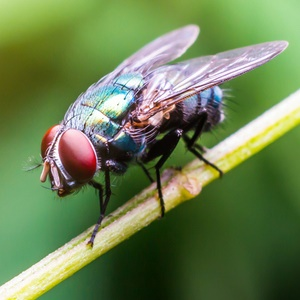fly: (27, 18, 290, 250)
